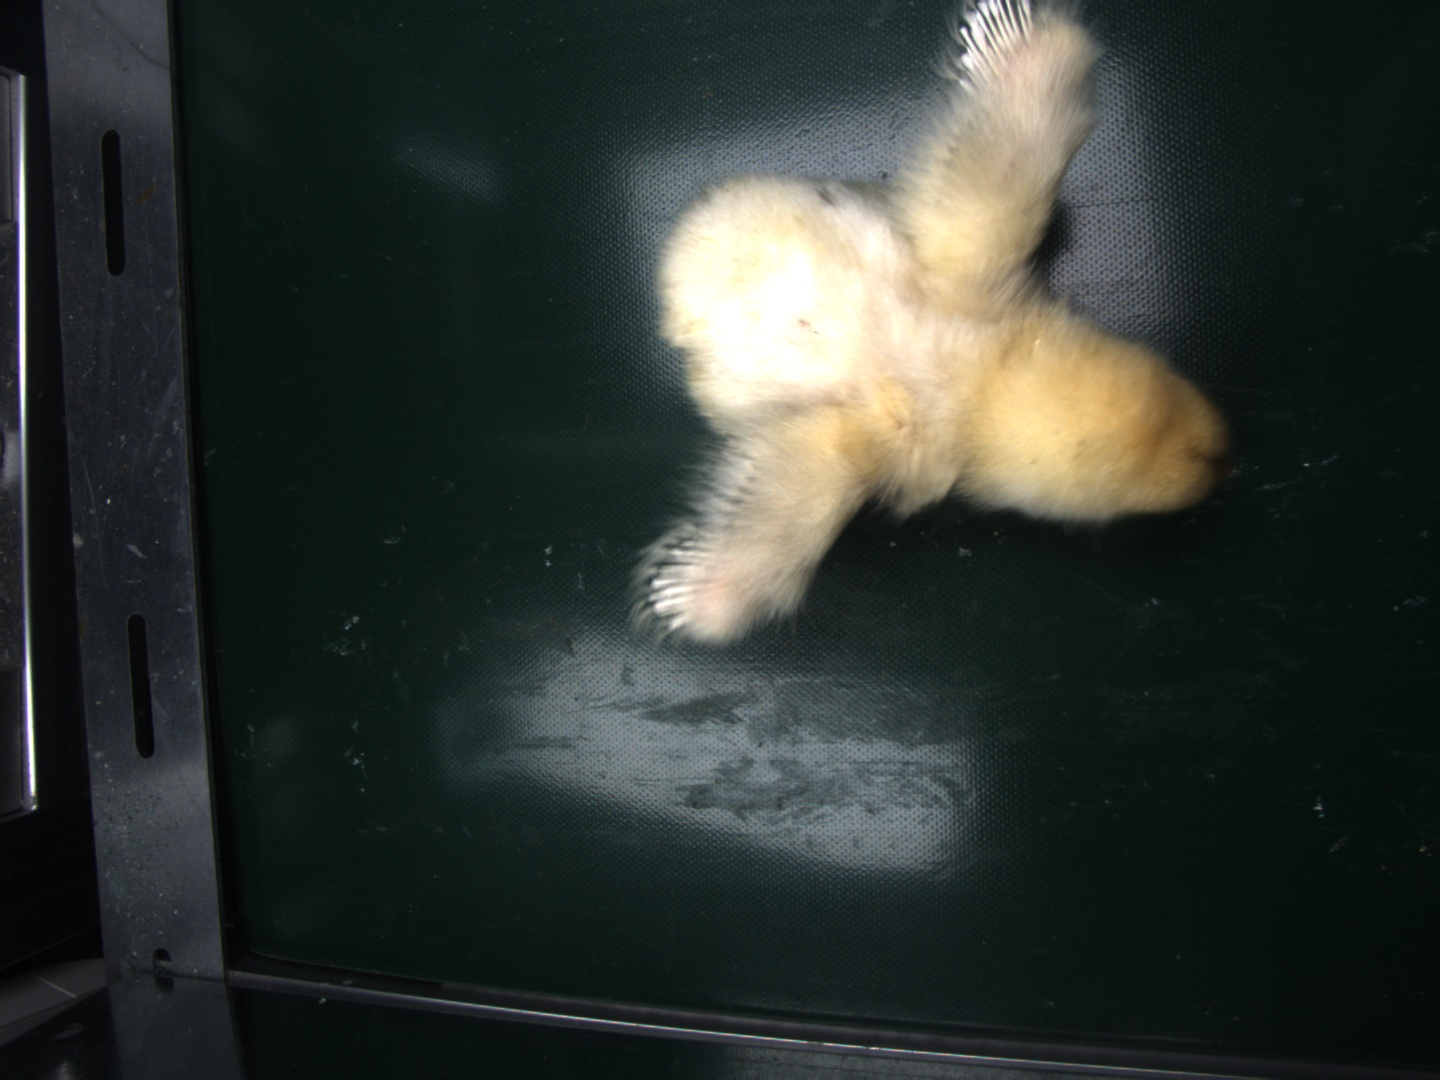male: (952, 1, 1037, 79)
